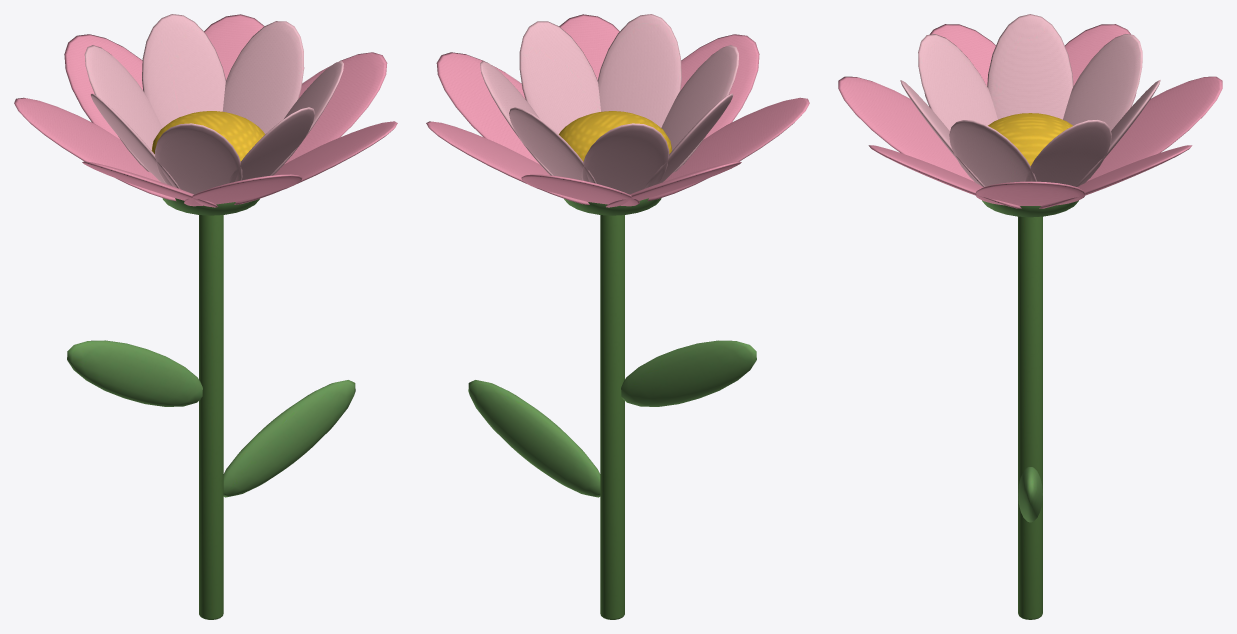
File: scene-sala-flower.glb
3 views of the same model, side by side, from view 1: azimuth 30°, elevation 25°; view 2: azimuth 150°, elevation 25°; view 3: azimuth 270°, elevation 25° (orthographic).
Visible parts, largest first — view 1: scene-sala-flower-part17, scene-sala-flower-part09, scene-sala-flower-part08, scene-sala-flower-part15, scene-sala-flower-part16, scene-sala-flower-part12, scene-sala-flower-part04, scene-sala-flower-part01, scene-sala-flower-part10, scene-sala-flower-part03, scene-sala-flower-part13, scene-sala-flower-part07 (+7 smaller); view 2: scene-sala-flower-part17, scene-sala-flower-part13, scene-sala-flower-part14, scene-sala-flower-part15, scene-sala-flower-part16, scene-sala-flower-part10, scene-sala-flower-part05, scene-sala-flower-part01, scene-sala-flower-part12, scene-sala-flower-part06, scene-sala-flower-part09, scene-sala-flower-part02 (+7 smaller); view 3: scene-sala-flower-part17, scene-sala-flower-part11, scene-sala-flower-part06, scene-sala-flower-part03, scene-sala-flower-part10, scene-sala-flower-part12, scene-sala-flower-part08, scene-sala-flower-part14, scene-sala-flower-part00, scene-sala-flower-part01, scene-sala-flower-part05, scene-sala-flower-part04 (+6 smaller).
Boxes of the visible parts, x1,y1,x2,y2 form: scene-sala-flower-part17: (199,215,223,619); scene-sala-flower-part09: (142,14,225,127); scene-sala-flower-part08: (222,21,304,134); scene-sala-flower-part15: (223,380,355,497); scene-sala-flower-part16: (67,340,202,406); scene-sala-flower-part12: (155,123,242,194); scene-sala-flower-part04: (14,97,176,201); scene-sala-flower-part01: (284,52,387,163); scene-sala-flower-part10: (84,45,162,172); scene-sala-flower-part03: (64,34,142,139); scene-sala-flower-part13: (227,107,314,183); scene-sala-flower-part07: (234,121,397,204); scene-sala-flower-part17: (600,215,624,619); scene-sala-flower-part13: (597,14,681,127); scene-sala-flower-part14: (519,21,600,134); scene-sala-flower-part15: (468,380,600,497); scene-sala-flower-part16: (621,340,756,406); scene-sala-flower-part10: (581,123,669,194); scene-sala-flower-part05: (647,97,809,201); scene-sala-flower-part01: (436,52,539,164); scene-sala-flower-part12: (661,45,738,172); scene-sala-flower-part06: (680,34,759,139); scene-sala-flower-part09: (509,107,596,183); scene-sala-flower-part02: (426,121,589,204); scene-sala-flower-part17: (1018,216,1042,619); scene-sala-flower-part11: (987,14,1073,119); scene-sala-flower-part06: (838,76,973,181); scene-sala-flower-part03: (1087,76,1222,181); scene-sala-flower-part10: (1063,34,1142,130); scene-sala-flower-part12: (918,34,997,130); scene-sala-flower-part08: (1024,120,1111,186); scene-sala-flower-part14: (949,120,1036,186); scene-sala-flower-part00: (988,113,1072,165); scene-sala-flower-part01: (975,181,1085,205); scene-sala-flower-part05: (924,24,995,106); scene-sala-flower-part04: (1065,24,1136,106).
Bounding box in the file's own units: 1.63 × 2.6 × 1.66.
1 material, 1 textured.
